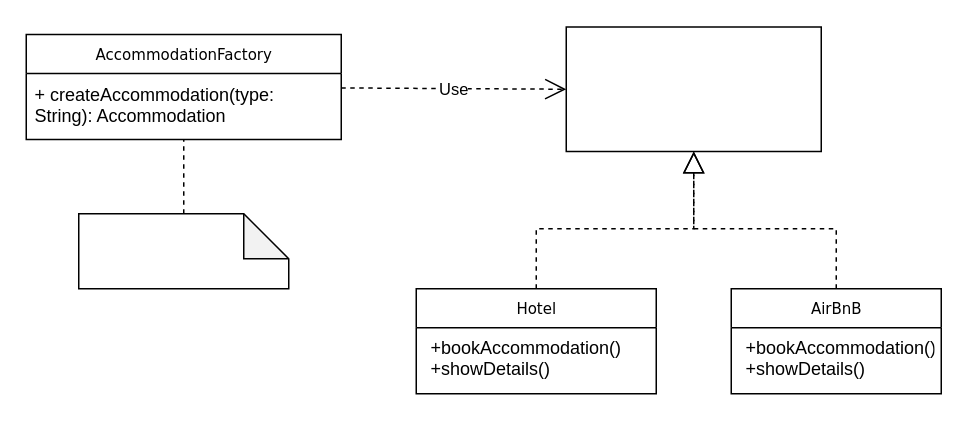
The diagram is 968 pixels wide and 423 high, and some of its shapes have lost their labels. Here are the shapes that lost their labels. From the top down, the centre of each, then its label:
(693,89): <<Interface>> Accommodation + bookAccommodation(): void +showDetails(): void
(183,250): retrun new Hotel() return new AirBnB()
